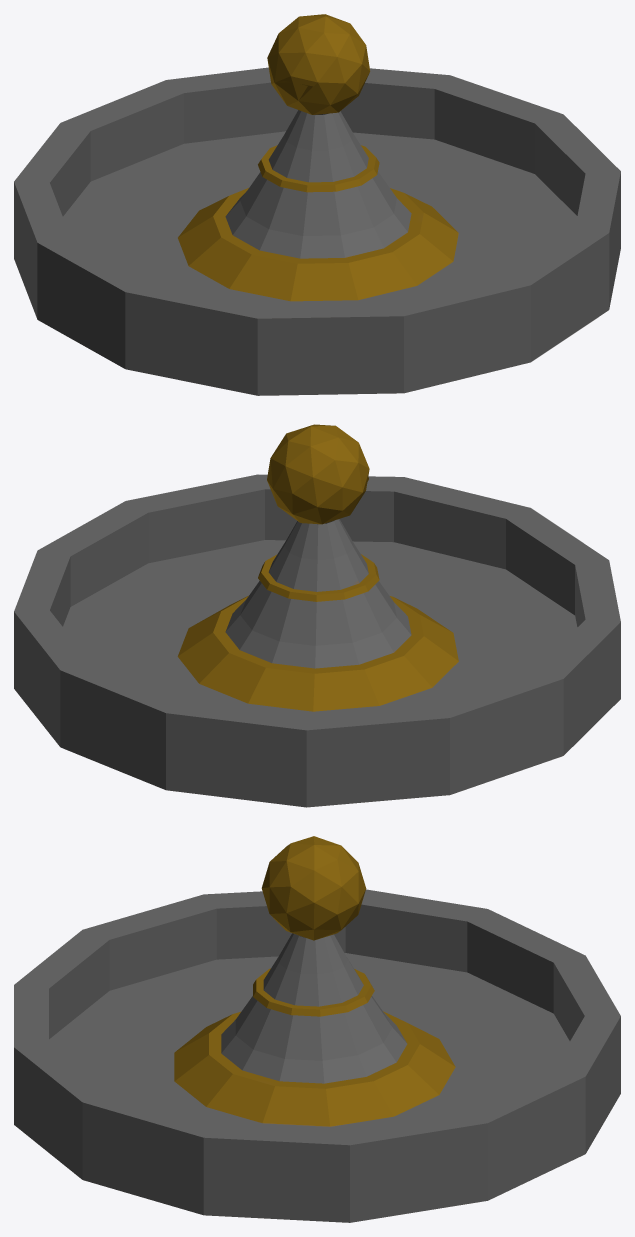
The model's file is FOUNTAIN_F.fbx.
The picture shows the model from 3 angles, top to bottom: view 1: azimuth 30°, elevation 25°; view 2: azimuth 150°, elevation 25°; view 3: azimuth 270°, elevation 25°; orthographic projection.
Parts seen in each view (by area): view 1: Fountain; view 2: Fountain; view 3: Fountain.
Boxes of the visible parts, x1,y1,x2,y2 form: Fountain: (14,14,620,395); Fountain: (14,424,620,807); Fountain: (14,836,620,1222).
Size of the model in its own units: 6098 by 2776 by 6053.
Materials: 1 (1 with a texture image).
